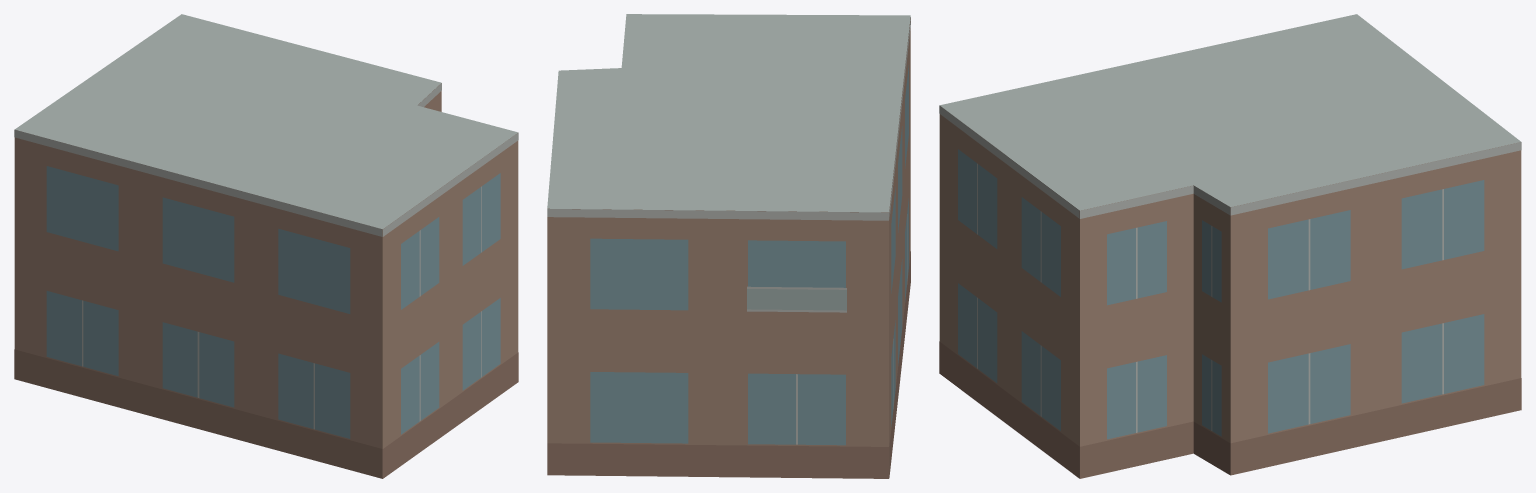
Rendered from survey-upis-32956546.glb.
3 views of the same model, side by side, from view 1: azimuth 30°, elevation 25°; view 2: azimuth 150°, elevation 25°; view 3: azimuth 270°, elevation 25° (orthographic). The views are drawn at different scales.
Parts seen in each view (by area): view 1: survey-upis-32956546.tmp; view 2: survey-upis-32956546.tmp; view 3: survey-upis-32956546.tmp.
Part boxes in pixels (<box>): survey-upis-32956546.tmp: <box>14,14,518,478</box>; survey-upis-32956546.tmp: <box>547,14,910,478</box>; survey-upis-32956546.tmp: <box>939,14,1521,478</box>.
Bounding box in the file's own units: 12.28 × 7.8 × 15.35.
